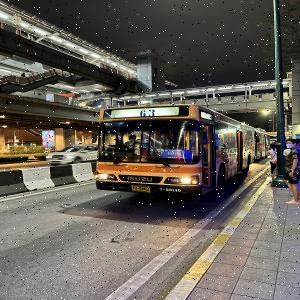BMTA-bus: (93, 105, 253, 199)
Bus Line Number: (136, 108, 160, 117)
Bus Side Number: (157, 185, 184, 194)
Destination Sign: (160, 149, 192, 159)
